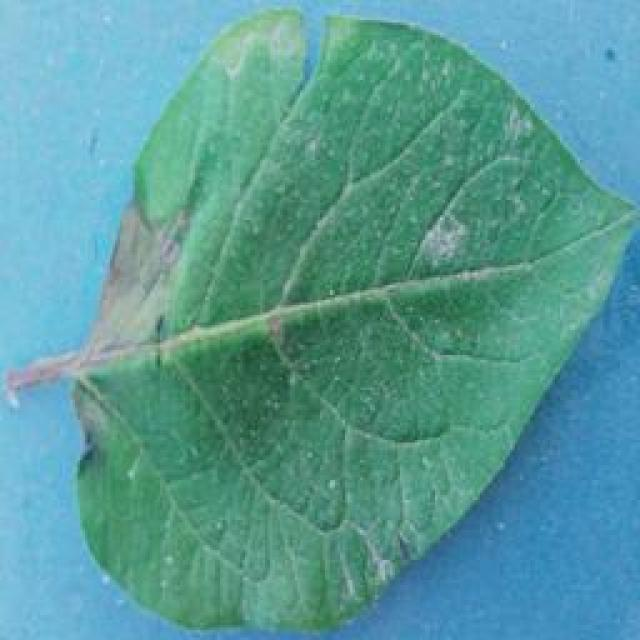Potato_Late_Blight: (67, 9, 637, 636)
